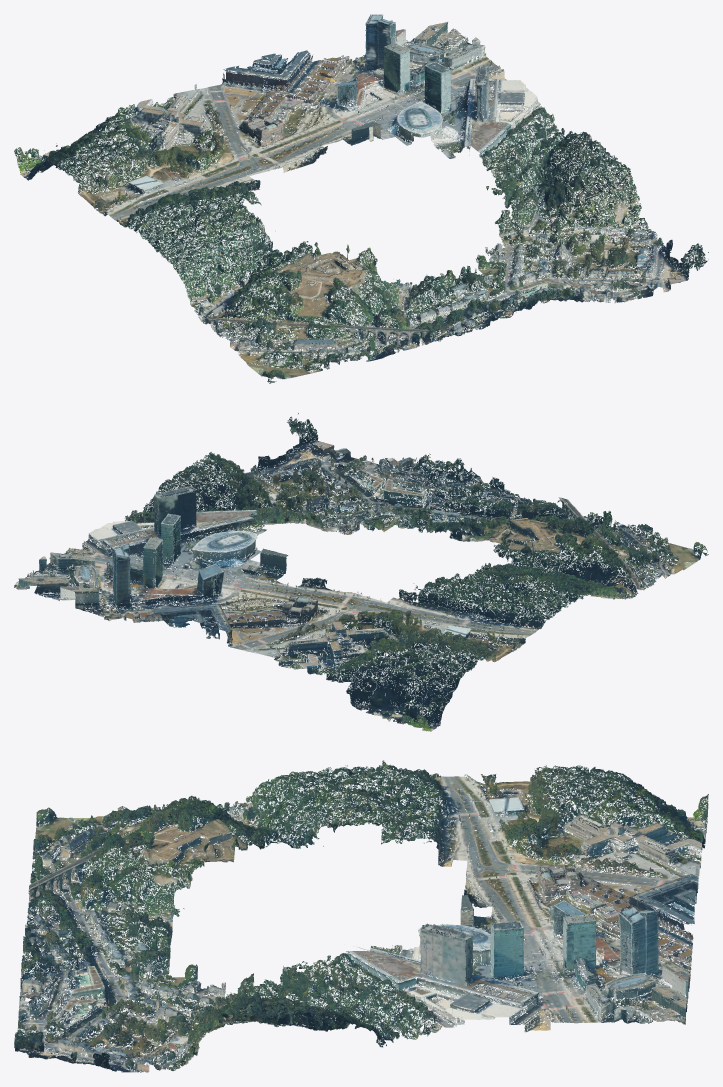
The model's file is far.glb.
The picture shows the model from 3 angles, top to bottom: view 1: azimuth 30°, elevation 25°; view 2: azimuth 150°, elevation 25°; view 3: azimuth 270°, elevation 25°; orthographic projection. The views are drawn at different scales.
Visible parts, largest first — view 1: far_context; view 2: far_context; view 3: far_context.
Part boxes in pixels (x1,y1,x2,y2): far_context: (14,14,708,383); far_context: (14,413,708,731); far_context: (14,760,708,1072).
Size of the model in its own units: 830 by 179 by 909.
Materials: 1 (1 with a texture image).
